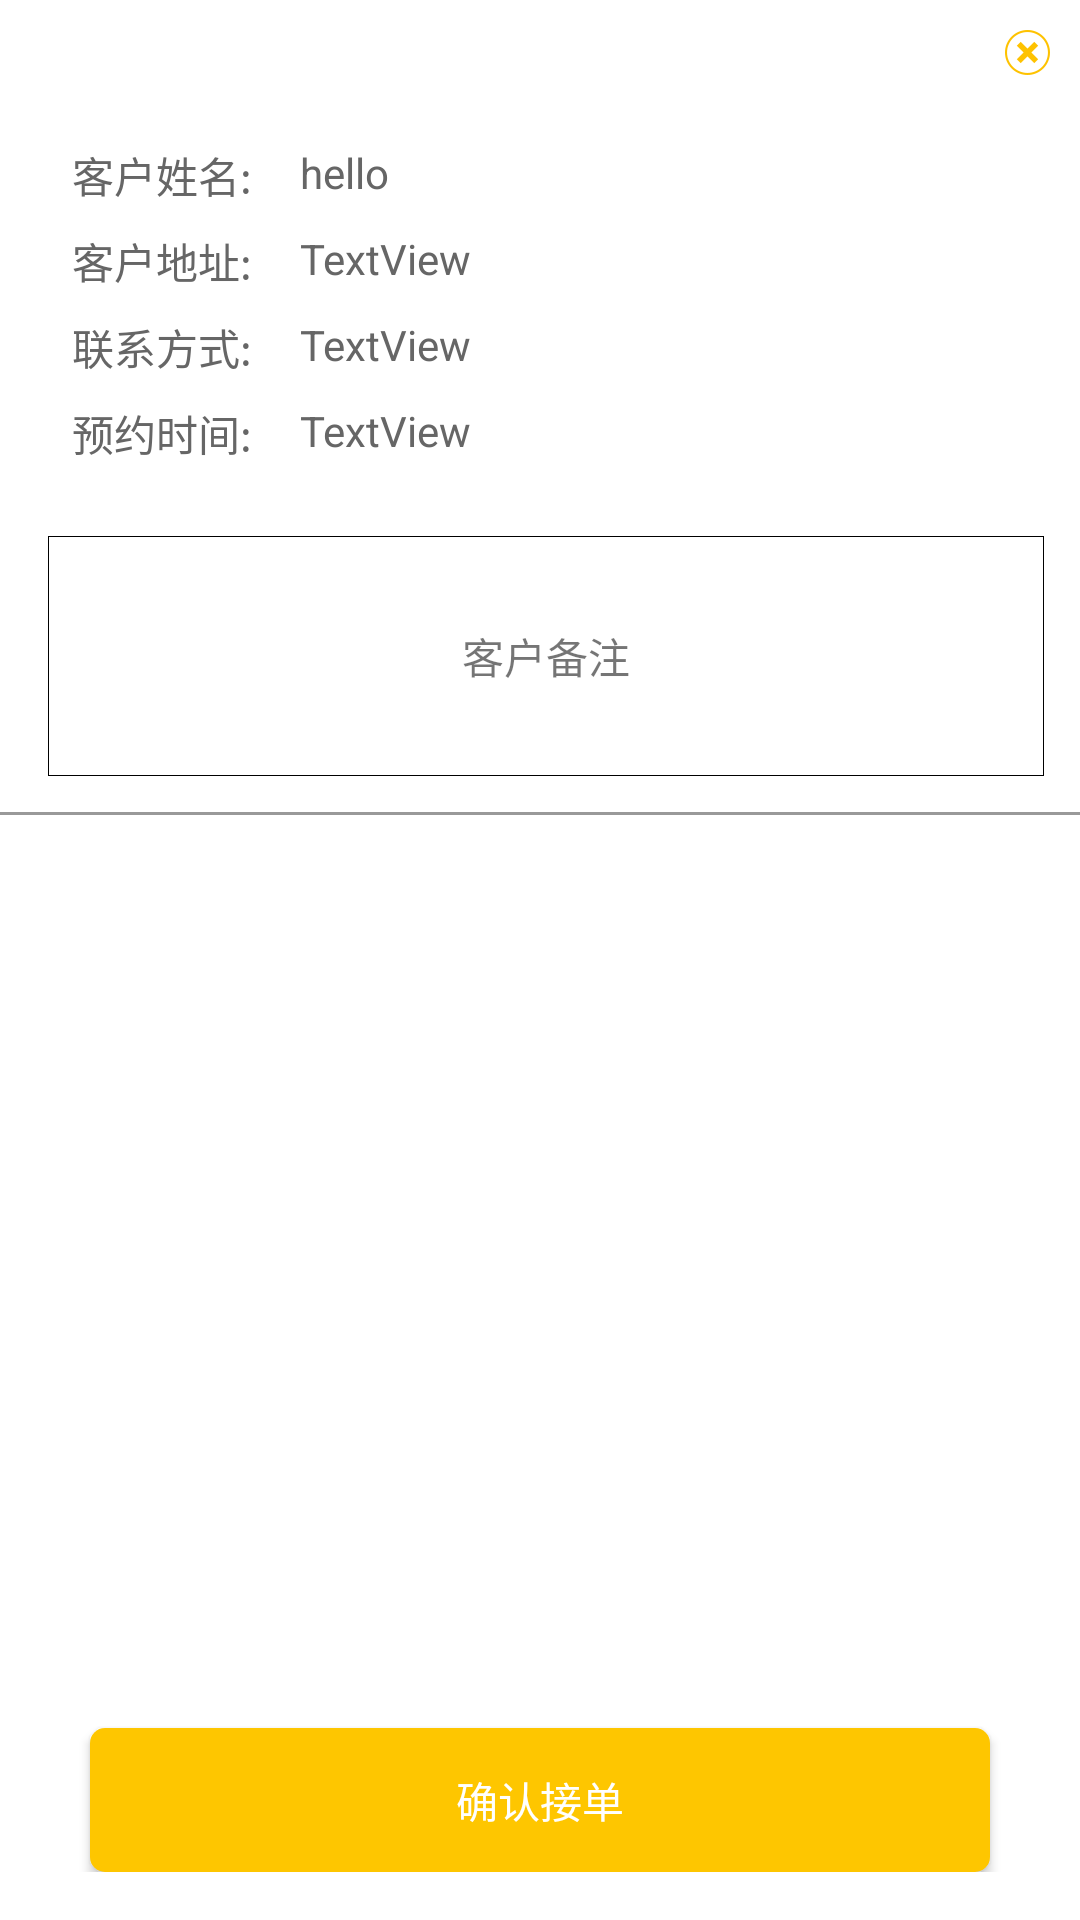

Icon click points for this 1080px x 1920px phone screenshot, format (x,y):
关闭: (1027,52)
